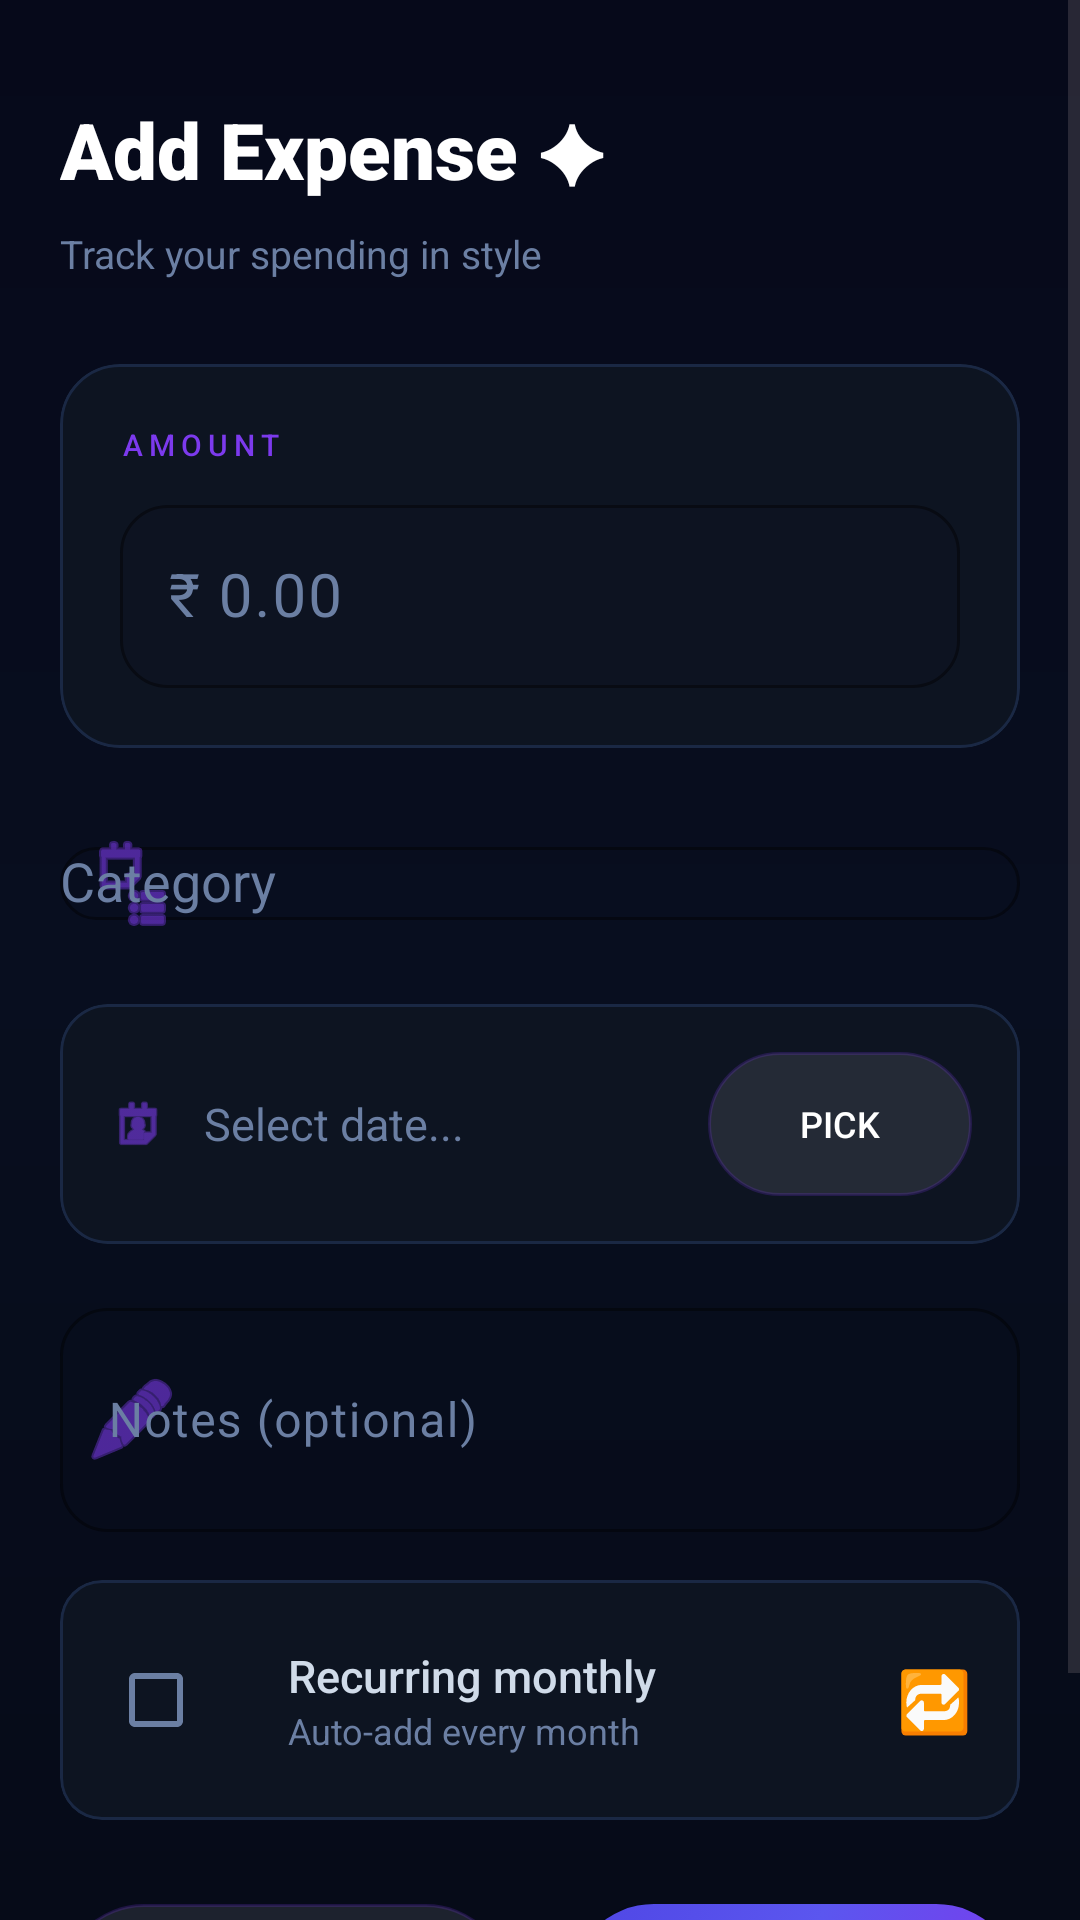

Where icons sit on this 1080*1920 app screen, as (x1=x1, y1=y1, x2=x2, y2=y2):
calendar: (x1=119, y1=1101, x2=157, y2=1145)
